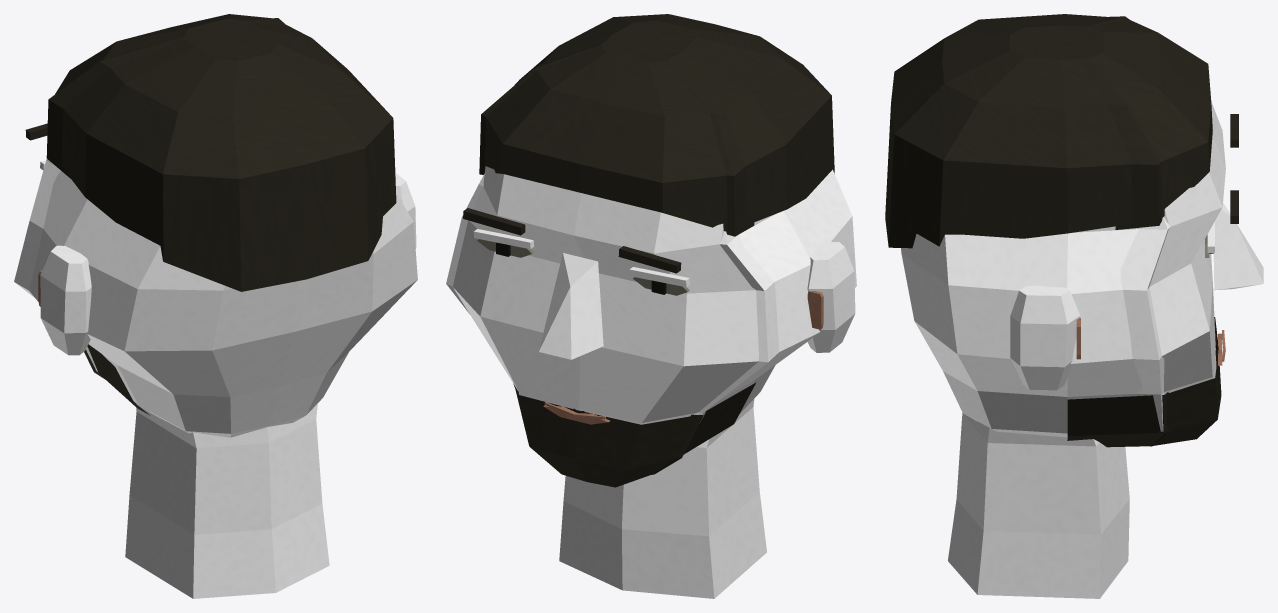
The picture shows the model from 3 angles, left to right: view 1: azimuth 30°, elevation 25°; view 2: azimuth 150°, elevation 25°; view 3: azimuth 270°, elevation 25°; orthographic projection. The views are drawn at different scales.
Visible parts, largest first — view 1: face_04_head_LOD0_RAID_skin.001, face_04_head_LOD0_RAID_hair0.001, face_04_head_LOD1_RAID_hair0.001, face_04_head_LOD1_RAID_skin.001; view 2: face_04_head_LOD0_RAID_skin.001, face_04_head_LOD0_RAID_hair0.001, face_04_head_LOD1_RAID_hair0.001, face_04_head_LOD1_RAID_skin.001, face_04_head_LOD0_RAID_lip.001, face_04_head_LOD0_RAID_eye.001; view 3: face_04_head_LOD0_RAID_skin.001, face_04_head_LOD0_RAID_hair0.001, face_04_head_LOD1_RAID_hair0.001, face_04_head_LOD1_RAID_skin.001.
Part boxes in pixels (left/top/right/bottom): face_04_head_LOD0_RAID_skin.001: left=29, top=160, right=417, bottom=598; face_04_head_LOD0_RAID_hair0.001: left=25, top=14, right=396, bottom=415; face_04_head_LOD1_RAID_hair0.001: left=46, top=18, right=285, bottom=378; face_04_head_LOD1_RAID_skin.001: left=14, top=159, right=97, bottom=371; face_04_head_LOD0_RAID_skin.001: left=452, top=166, right=856, bottom=598; face_04_head_LOD0_RAID_hair0.001: left=463, top=14, right=834, bottom=487; face_04_head_LOD1_RAID_hair0.001: left=479, top=23, right=754, bottom=480; face_04_head_LOD1_RAID_skin.001: left=446, top=174, right=779, bottom=423; face_04_head_LOD0_RAID_lip.001: left=543, top=291, right=823, bottom=424; face_04_head_LOD0_RAID_eye.001: left=477, top=239, right=689, bottom=295; face_04_head_LOD0_RAID_skin.001: left=901, top=102, right=1263, bottom=598; face_04_head_LOD0_RAID_hair0.001: left=885, top=14, right=1238, bottom=447; face_04_head_LOD1_RAID_hair0.001: left=1009, top=16, right=1218, bottom=446; face_04_head_LOD1_RAID_skin.001: left=1120, top=217, right=1170, bottom=431.
Size of the model in its own units: 0.2884 by 0.396 by 0.26.
Materials: 5 (5 with a texture image).
